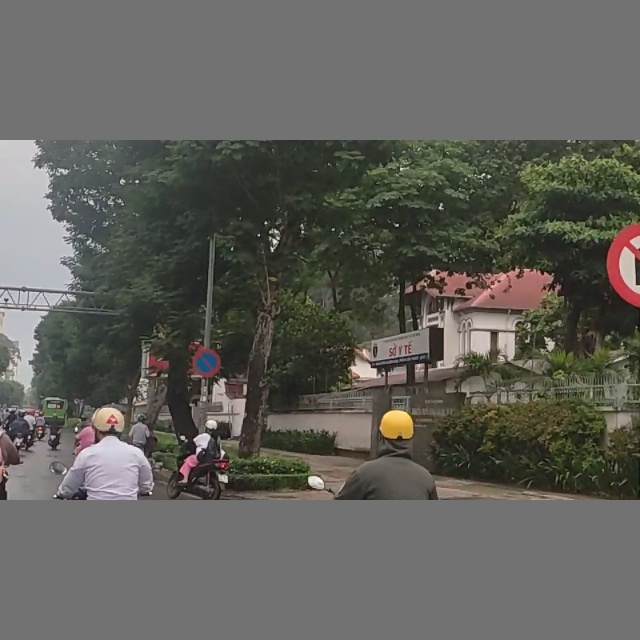P.123b: (607, 223, 640, 308)
P.131a: (192, 347, 221, 377)
